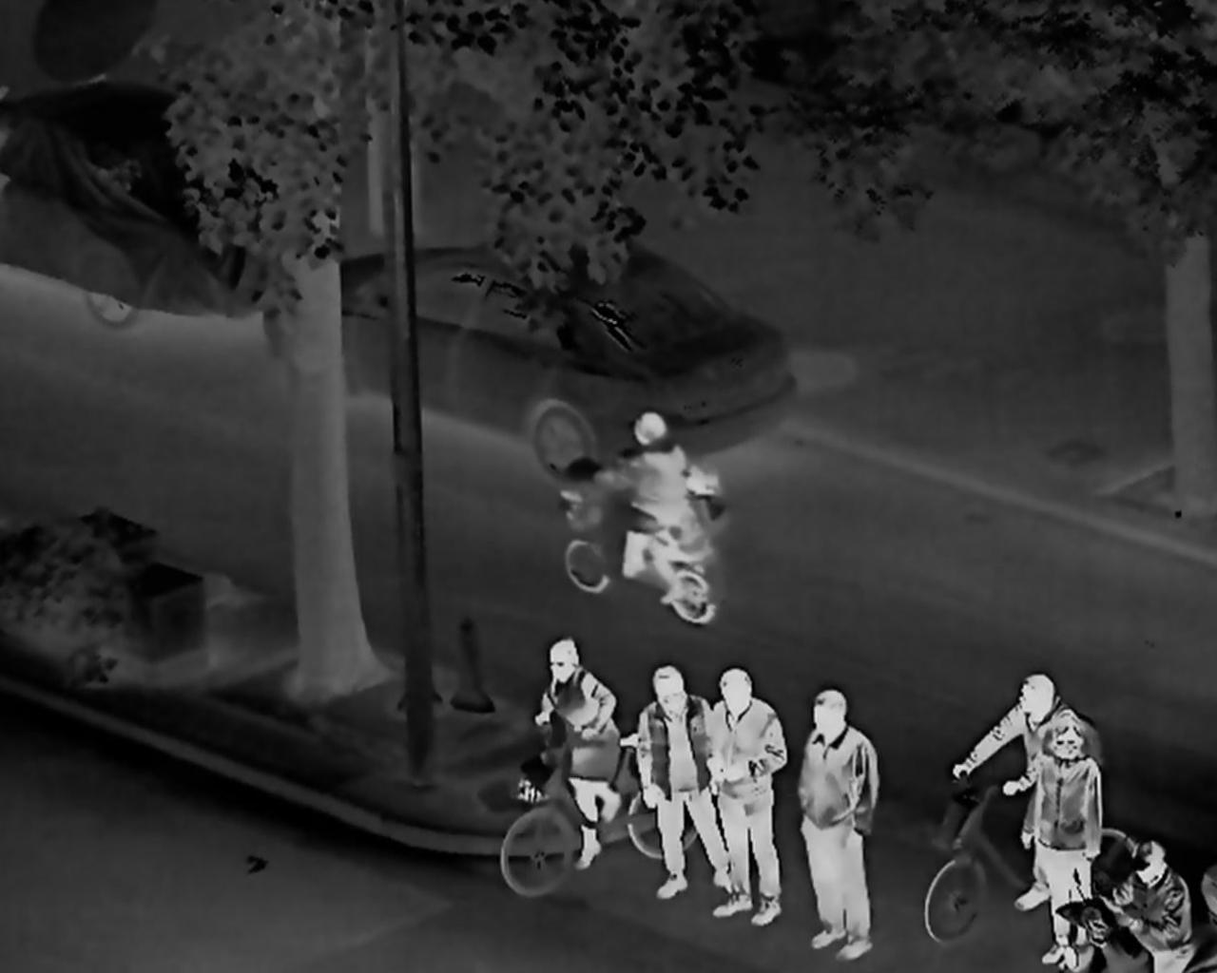person: (953, 673, 1102, 914), (795, 689, 879, 959), (636, 665, 731, 895), (531, 637, 619, 870), (1026, 722, 1104, 973), (712, 670, 787, 925), (584, 411, 687, 579), (1103, 839, 1194, 973), (649, 464, 724, 603)
